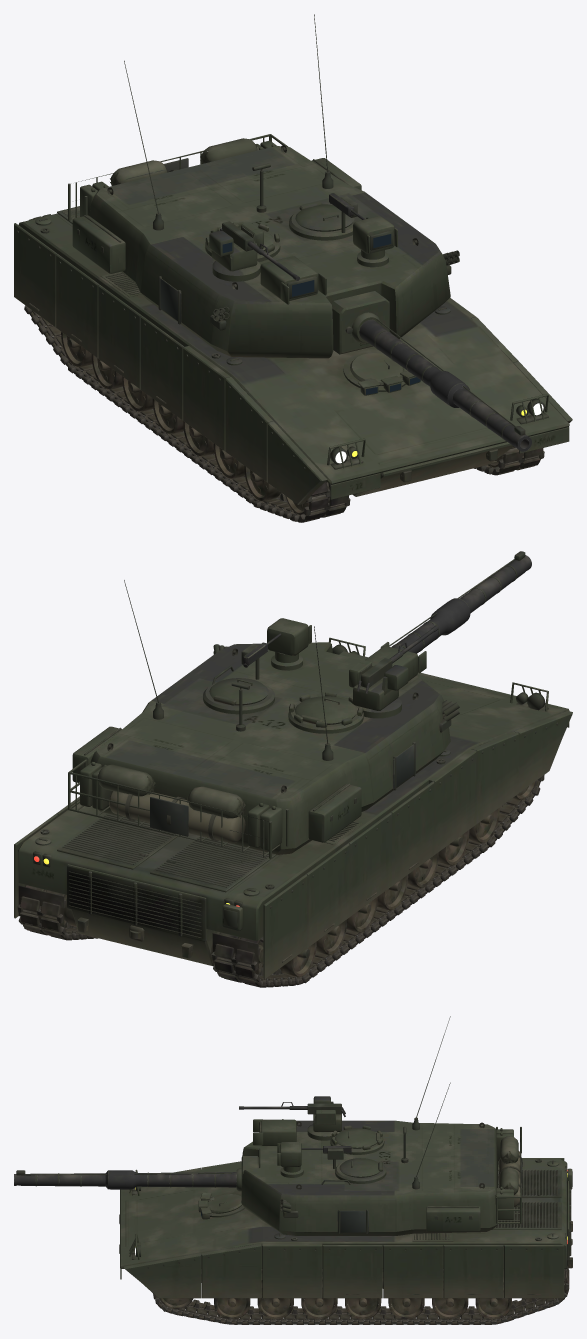
Rendered from m1a2_sepv3_web.glb.
3 views of the same model, one above another, from view 1: azimuth 30°, elevation 25°; view 2: azimuth 150°, elevation 25°; view 3: azimuth 270°, elevation 25° (orthographic). The views are drawn at different scales.
Parts seen in each view (by area): view 1: Turret_Shell, Hull_Armour, Skirt_Right, Gun_Mesh, Track_Right, Turret_Side_Fittings, Turret_Roof_Fittings, CROWS_Mount, Bustle_Stowage, Hull_Front_Fittings, CITV_Head, Loader_Hatch_Lid (+7 smaller); view 2: Turret_Shell, Skirt_Right, Hull_Armour, Engine_Deck, Bustle_Stowage, Hull_Rear, Track_Right, Turret_Side_Fittings, Gun_Mesh, CROWS_Mount, Turret_Roof_Fittings, Bustle_Rack (+18 smaller); view 3: Skirt_Left, Turret_Shell, Hull_Armour, Track_Left, Gun_Mesh, Engine_Deck, Bustle_Stowage, Turret_Roof_Fittings, Turret_Side_Fittings, CROWS_Mount, CITV_Head, Commander_Hatch_Lid (+15 smaller).
Boxes of the visible parts, x1,y1,x2,y2 form: Turret_Shell: (89,146,450,358); Hull_Armour: (18,213,569,496); Skirt_Right: (14,223,327,504); Gun_Mesh: (331,291,531,451); Track_Right: (24,305,350,522); Turret_Side_Fittings: (72,158,459,330); Turret_Roof_Fittings: (107,14,418,304); CROWS_Mount: (209,221,299,281); Bustle_Stowage: (80,138,276,216); Hull_Front_Fittings: (330,370,569,499); CITV_Head: (353,216,397,267); Loader_Hatch_Lid: (295,201,354,231); Turret_Shell: (90,642,450,854); Skirt_Right: (263,711,572,979); Hull_Armour: (18,672,569,966); Engine_Deck: (35,748,450,896); Bustle_Stowage: (80,761,282,850); Hull_Rear: (67,864,242,958); Track_Right: (211,775,544,987); Turret_Side_Fittings: (72,644,459,842); Gun_Mesh: (339,551,531,660); CROWS_Mount: (349,625,438,718); Turret_Roof_Fittings: (107,580,426,793); Bustle_Rack: (68,759,288,858); Skirt_Left: (124,1243,564,1298); Turret_Shell: (241,1120,497,1235); Hull_Armour: (120,1159,567,1282); Track_Left: (153,1266,569,1324); Gun_Mesh: (14,1156,258,1192); Engine_Deck: (274,1159,561,1241); Bustle_Stowage: (495,1128,522,1219); Turret_Roof_Fittings: (253,1016,484,1189); Turret_Side_Fittings: (280,1119,480,1233); CROWS_Mount: (239,1096,345,1140); CITV_Head: (277,1142,303,1177); Commander_Hatch_Lid: (335,1128,380,1148).
Bounding box in the file's own units: 3.66 × 4.54 × 9.77.
Materials: 8 (4 with a texture image).
